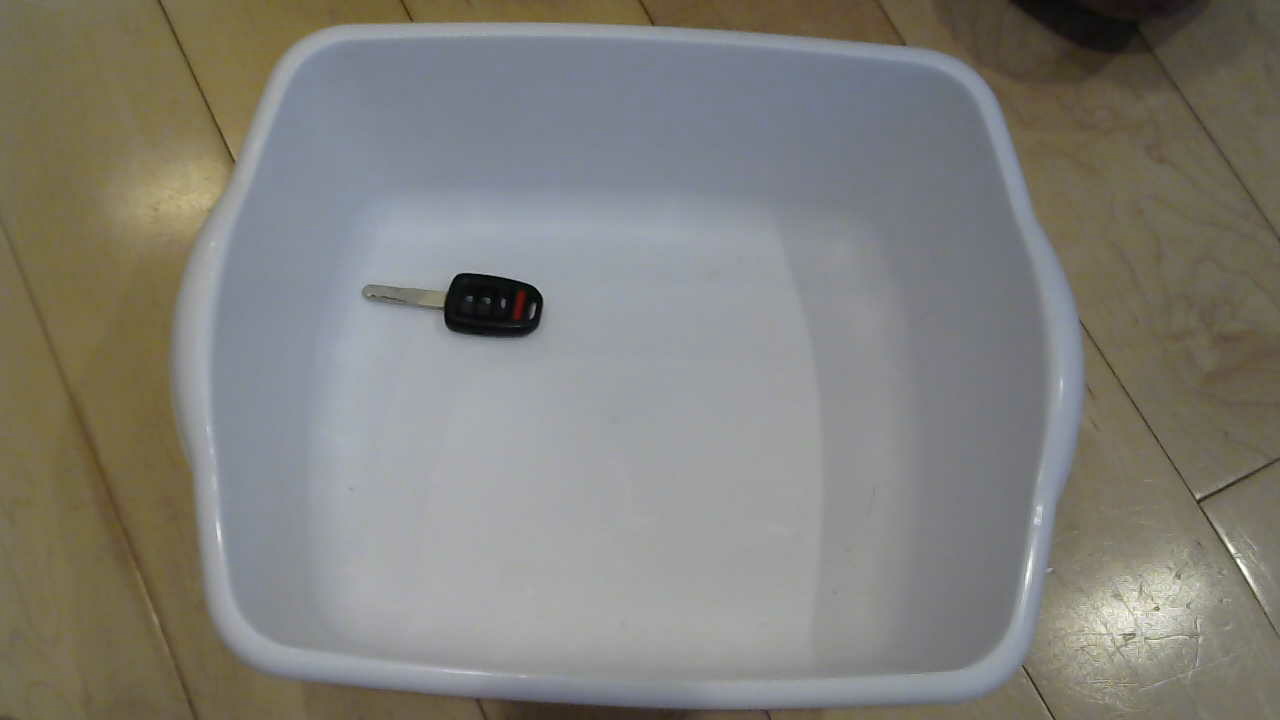key: (335, 248, 561, 349)
